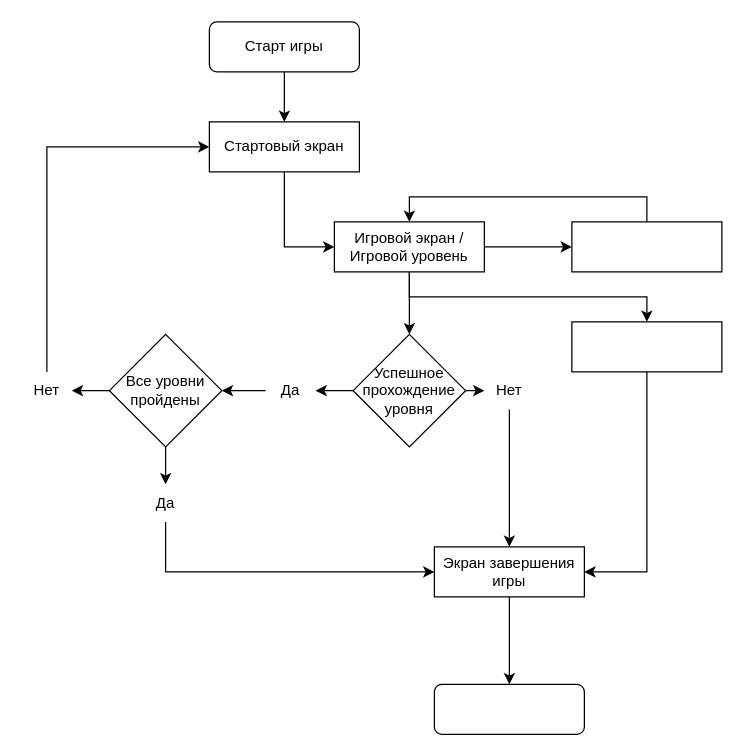
This 744x756 diagram has some shape labels left out. Here are the shapes that lost their labels. From the top down, the box of each, then its label:
(571, 221, 722, 272): Экран паузы
(571, 321, 722, 372): Досрочное завершение игры
(433, 683, 584, 734): Конец игры
